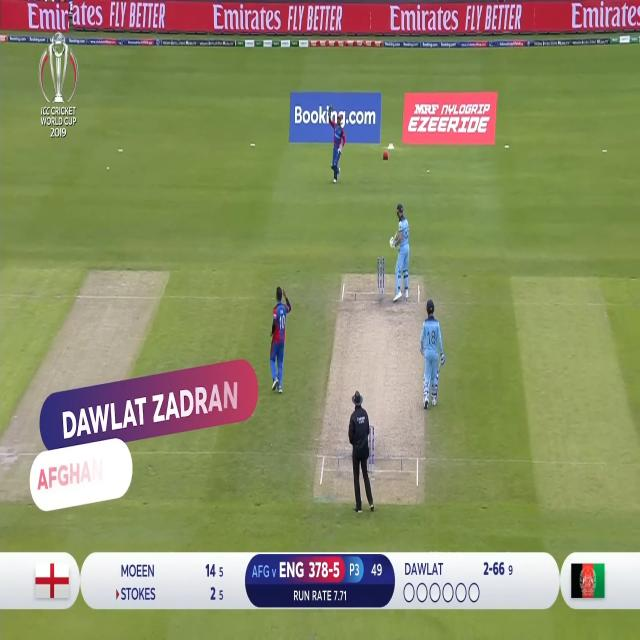ball: (104, 164, 114, 176)
